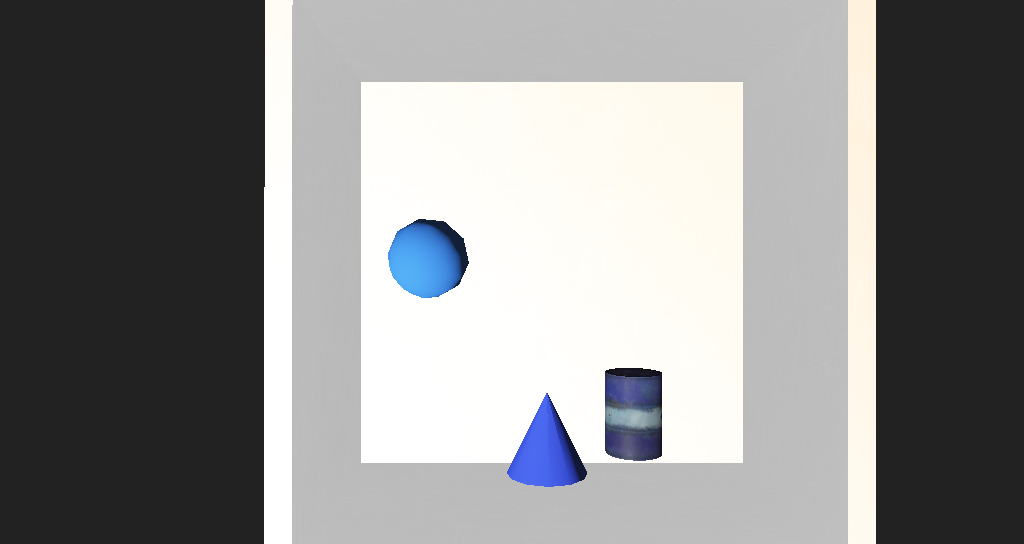cone: (549, 322, 596, 375)
cylinder: (475, 332, 536, 384)
sphere: (381, 241, 441, 284)
